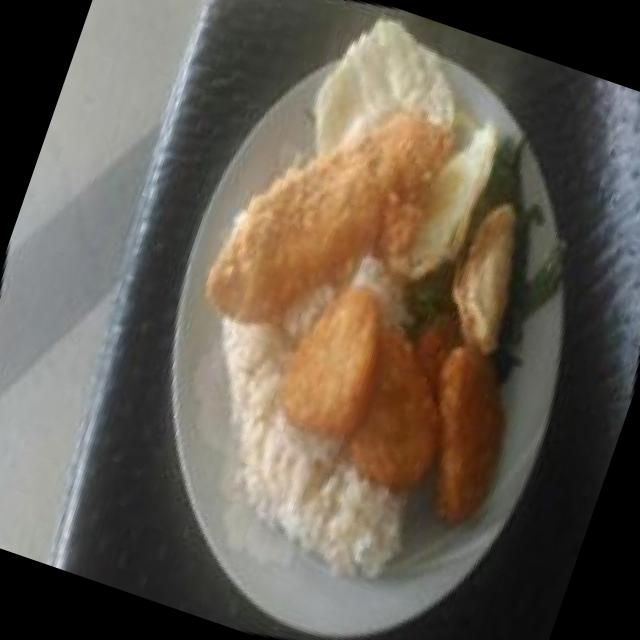fried_chicken: (186, 82, 470, 360)
fried_dumplings: (421, 190, 546, 362)
fried_eggs: (260, 0, 539, 304)
rice: (209, 367, 401, 575)
triangle_hash_brown: (238, 248, 558, 564)
water_spinach: (469, 130, 548, 226)
